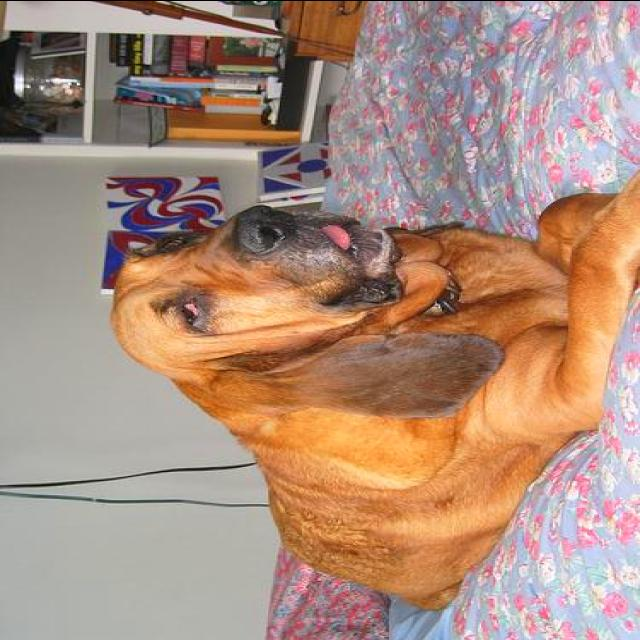bloodhound: (104, 164, 638, 614)
